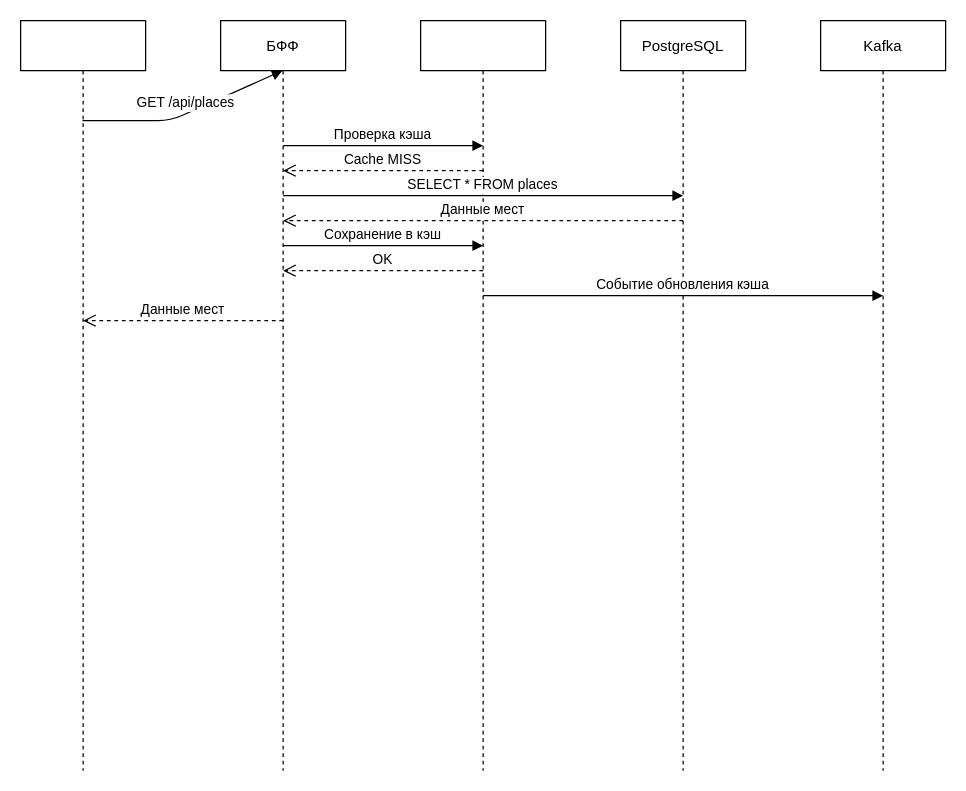
Image size: 966x791. Some labels were removed from this diagram. The shapes that lost their labels are listed below. From the top down, each one's box as (x1, y1, x2, y2) in pixels, then its label:
(19, 19, 146, 771): Клиент
(419, 19, 546, 771): Redis
